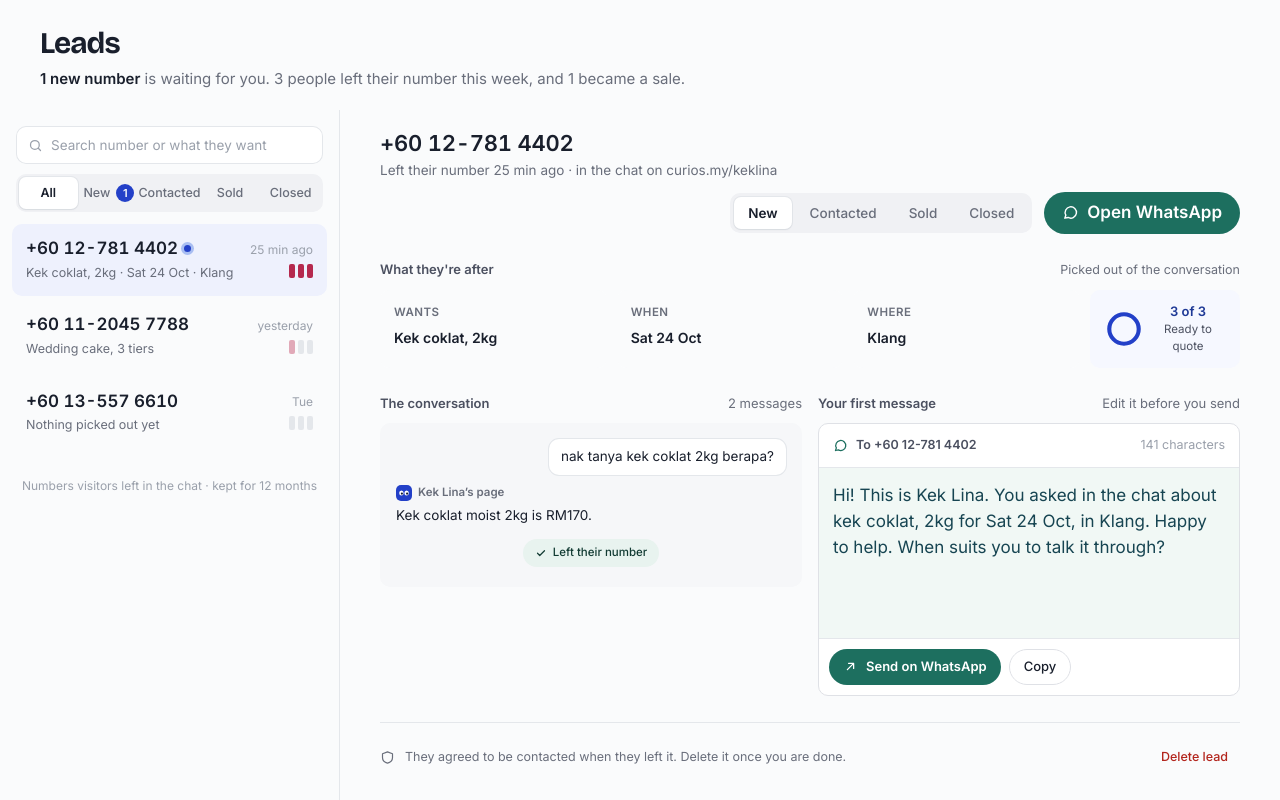
Scenario: LeadsScreen, the search › narrows the list by the number’s digits, however they are typed, or by what they want
This screenshot has width=1280, height=800.
In the search field labelled "Search number or what they want": (181, 145) [51,127,311,163], type "12-781"
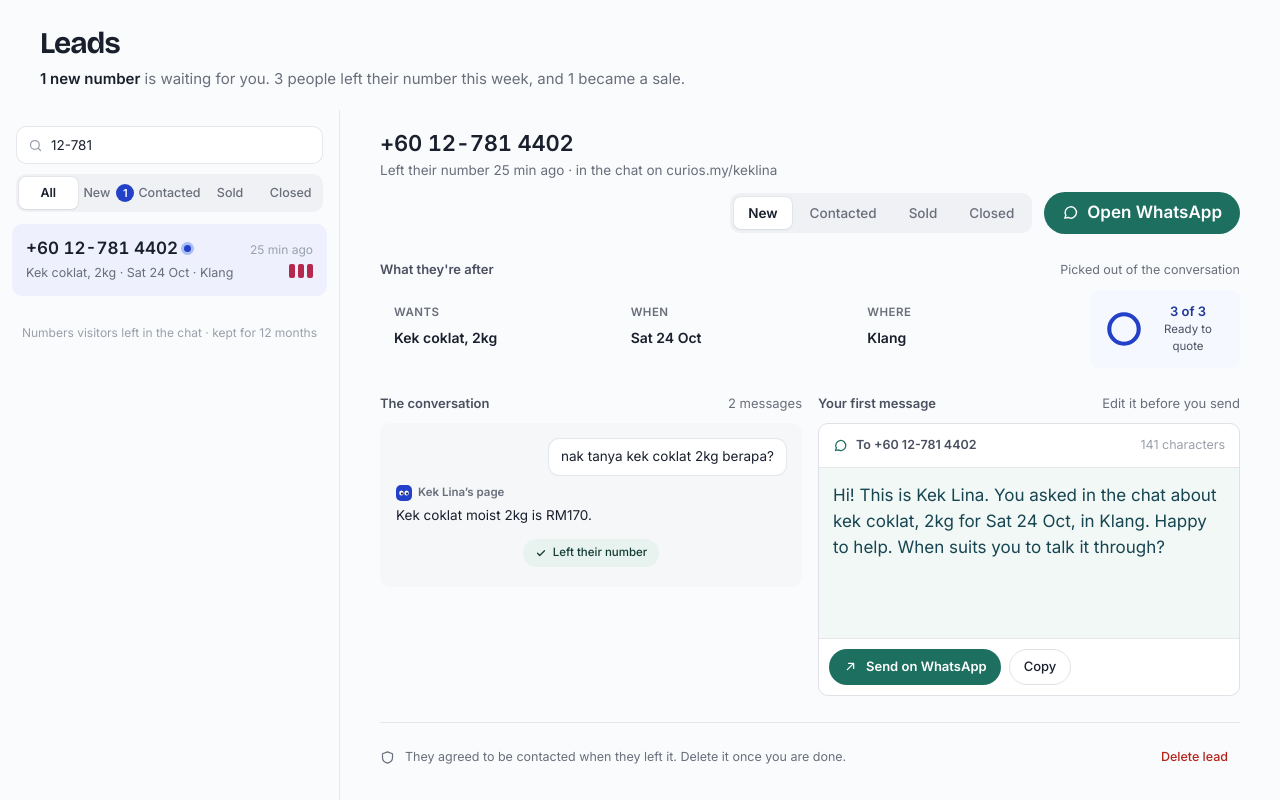
Check: the heading "+60 12-781 4402" is shown, box [380,130,574,156]
Replace the text in the search field named "Search number or what they want" with "wedding": (181, 145) [51,127,311,163]
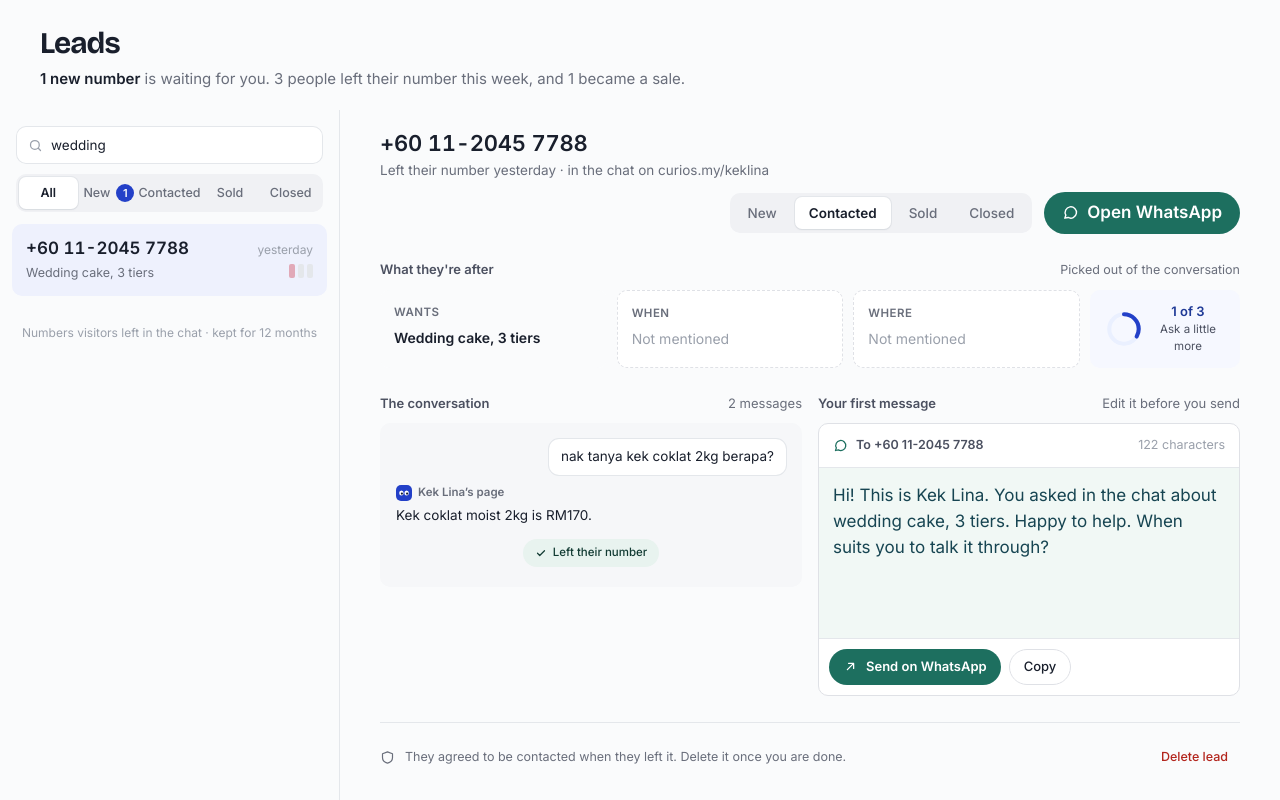
Check: the heading "+60 11-2045 7788" is shown, box [380,130,588,156]
Replace the text in the search field named "Search number or what they want" with "pavlova": (181, 145) [51,127,311,163]
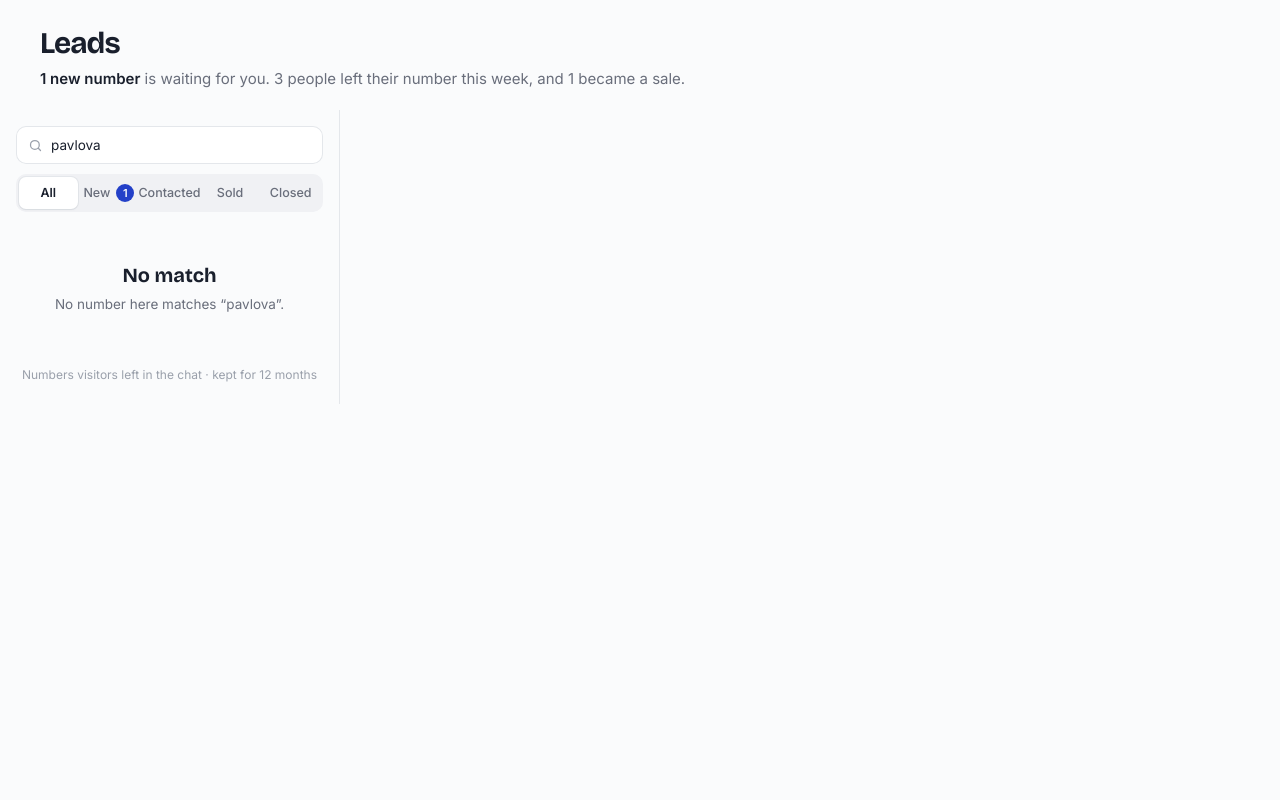
Check: the text "No number here matches “pavlova”." is shown, box [55,263,284,312]
